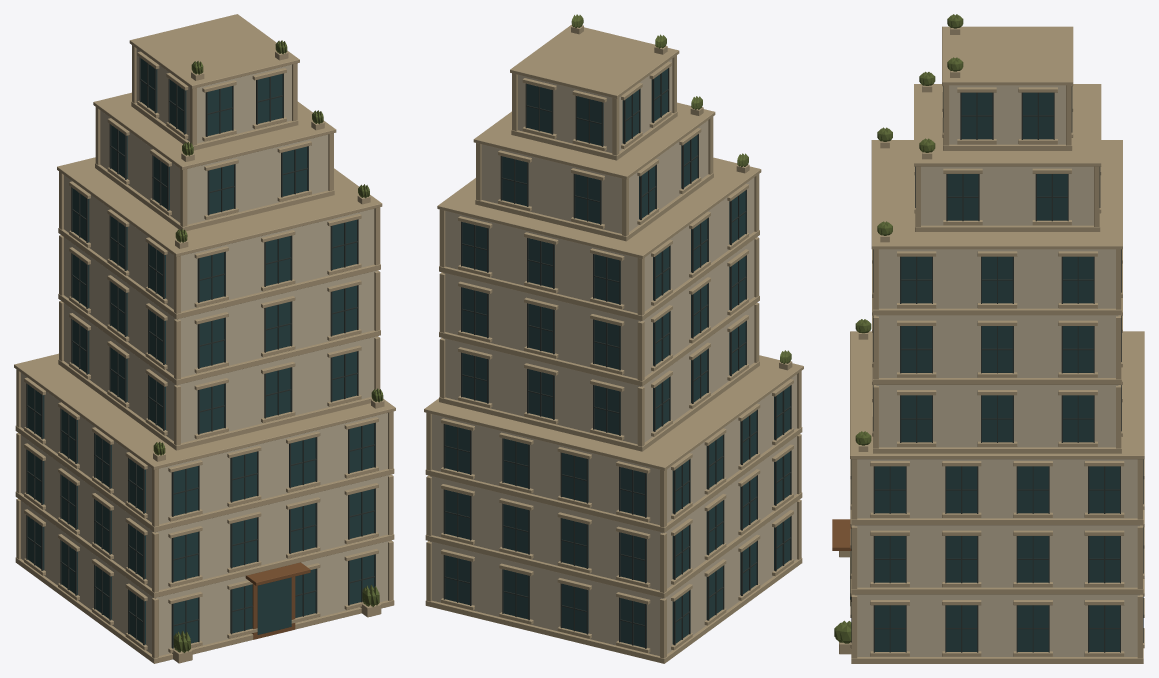
Rendered from tower_b.glb.
3 views of the same model, side by side, from view 1: azimuth 30°, elevation 25°; view 2: azimuth 150°, elevation 25°; view 3: azimuth 270°, elevation 25° (orthographic). The views are drawn at different scales.
Parts seen in each view (by area): view 1: tower; view 2: tower; view 3: tower.
Part boxes in pixels (<box>): tower: <box>14,14,395,663</box>; tower: <box>424,14,803,663</box>; tower: <box>832,14,1144,663</box>.
Bounding box in the file's own units: 11.55 × 24.77 × 12.25.
